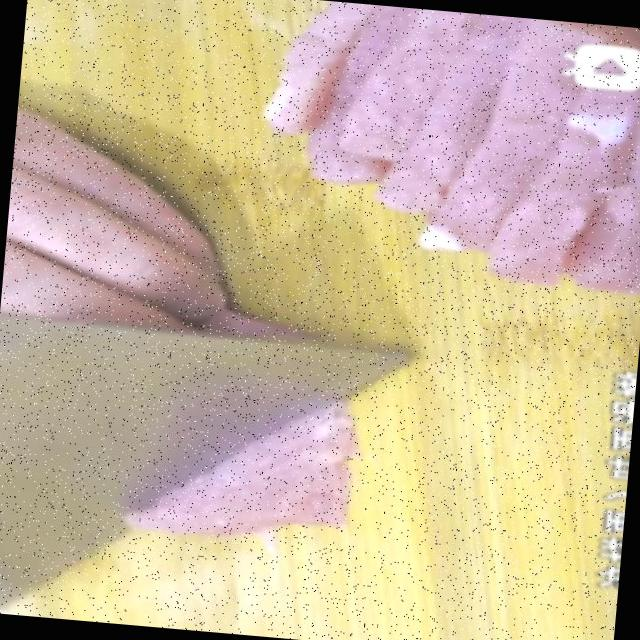pork: (193, 0, 640, 298), (110, 374, 392, 572)
